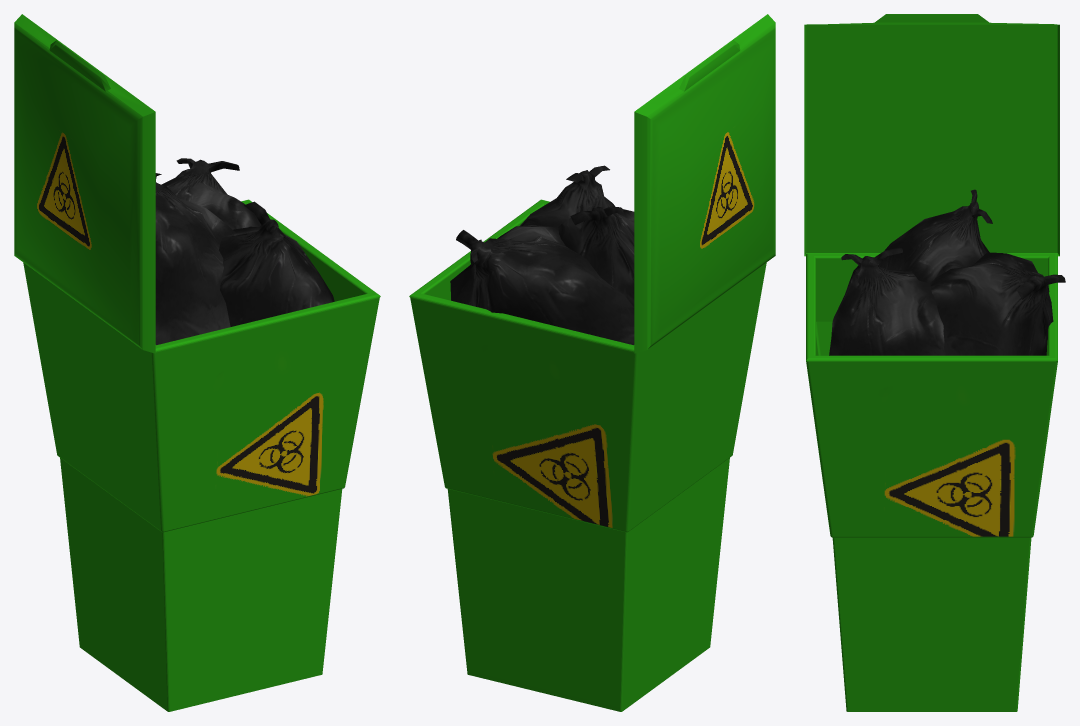
File: bote toxico(verde) (1).fbx
The picture shows the model from 3 angles, left to right: view 1: azimuth 30°, elevation 25°; view 2: azimuth 150°, elevation 25°; view 3: azimuth 270°, elevation 25°; orthographic projection. The views are drawn at different scales.
Visible parts, largest first — view 1: Trash bin, Tapa, Garbage Bag obj.001, Garbage Bag obj, Garbage Bag obj.002; view 2: Trash bin, Tapa, Garbage Bag obj.002, Garbage Bag obj.001, Garbage Bag obj; view 3: Trash bin, Tapa, Garbage Bag obj.002, Garbage Bag obj, Garbage Bag obj.001.
Part boxes in pixels (left/top/right/bottom): Trash bin: left=23, top=199, right=380, bottom=711; Tapa: left=14, top=14, right=155, bottom=353; Garbage Bag obj.001: left=155, top=173, right=235, bottom=344; Garbage Bag obj: left=219, top=201, right=334, bottom=326; Garbage Bag obj.002: left=161, top=158, right=261, bottom=229; Trash bin: left=409, top=199, right=766, bottom=711; Tapa: left=634, top=14, right=775, bottom=353; Garbage Bag obj.002: left=450, top=225, right=634, bottom=344; Garbage Bag obj.001: left=558, top=206, right=634, bottom=326; Garbage Bag obj: left=520, top=165, right=614, bottom=226; Trash bin: left=806, top=253, right=1057, bottom=711; Tapa: left=804, top=14, right=1059, bottom=256; Garbage Bag obj.002: left=930, top=252, right=1065, bottom=355; Garbage Bag obj: left=829, top=247, right=945, bottom=355; Garbage Bag obj.001: left=879, top=189, right=992, bottom=283.
Bounding box in the file's own units: 279 × 671 × 263.
Materials: 3 (3 with a texture image).
